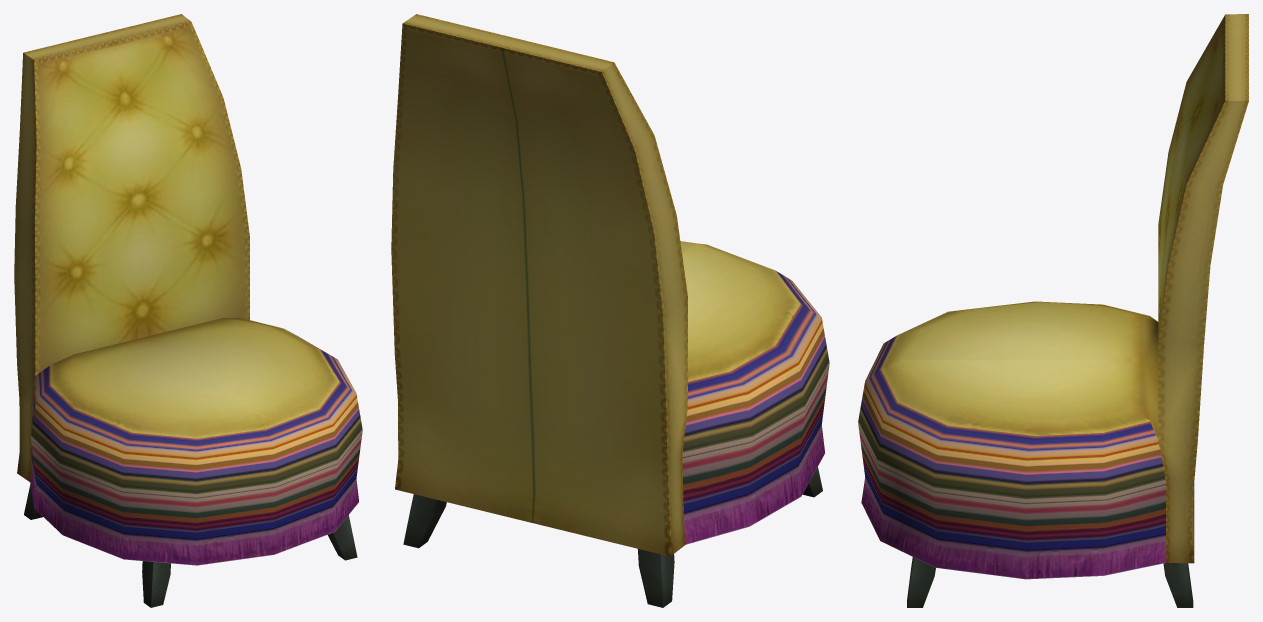
File: furni_0200614.FBX
The picture shows the model from 3 angles, left to right: view 1: azimuth 30°, elevation 25°; view 2: azimuth 150°, elevation 25°; view 3: azimuth 270°, elevation 25°; orthographic projection. The views are drawn at different scales.
Visible parts, largest first — view 1: furni_0200614; view 2: furni_0200614; view 3: furni_0200614.
Boxes of the visible parts, x1,y1,x2,y2 form: furni_0200614: (14, 14, 362, 607); furni_0200614: (391, 14, 829, 607); furni_0200614: (858, 14, 1248, 607).
Size of the model in its own units: 78.77 by 116 by 83.48.
Materials: 1 (1 with a texture image).
